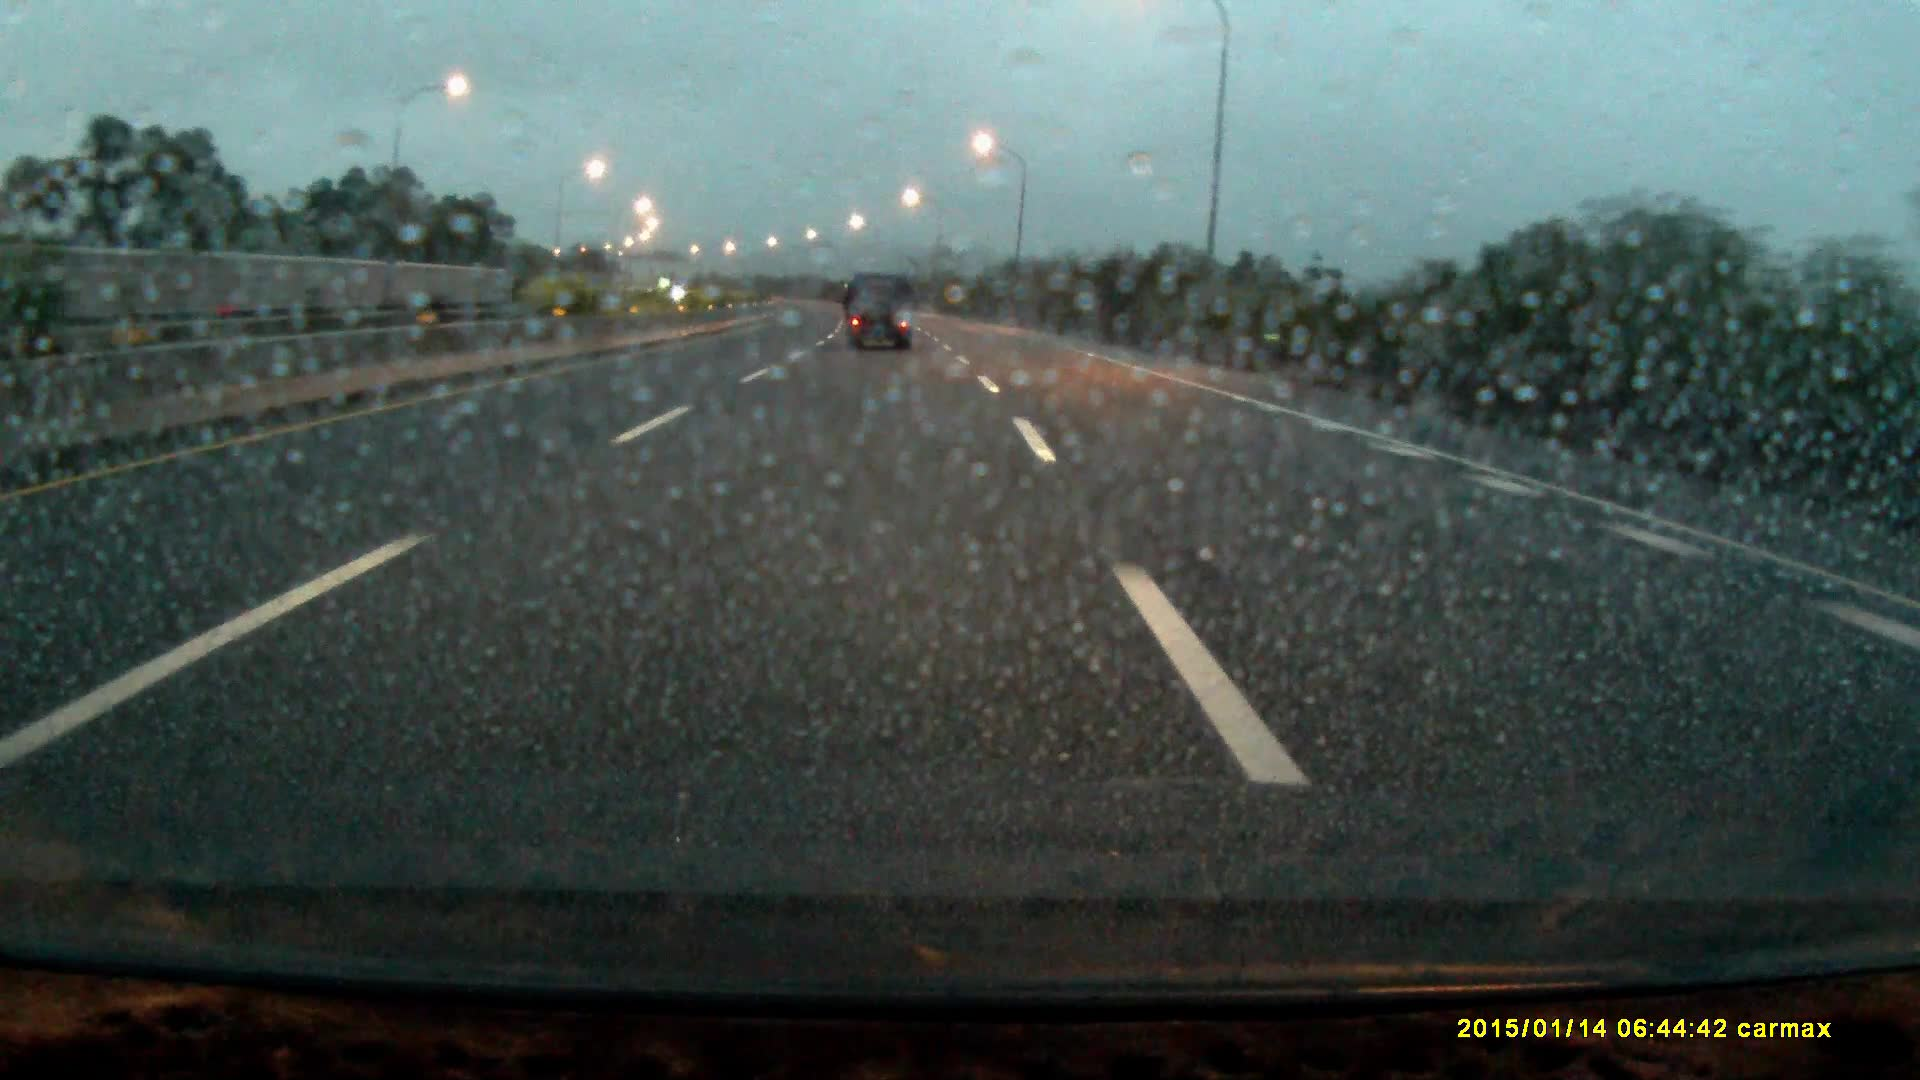vehicle: (848, 272, 914, 353)
